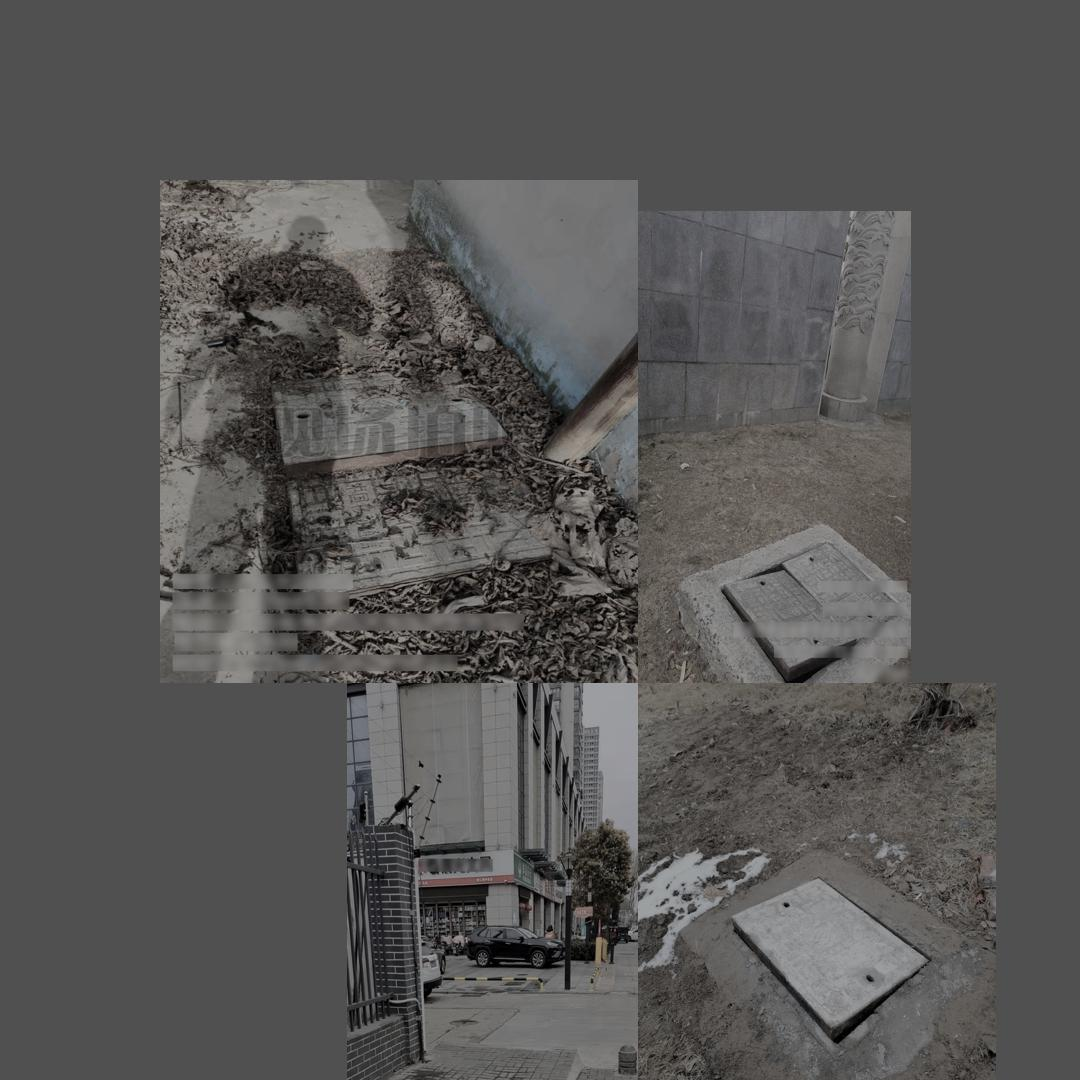uncovered: (268, 367, 558, 598), (726, 874, 941, 1056), (731, 535, 832, 683)
